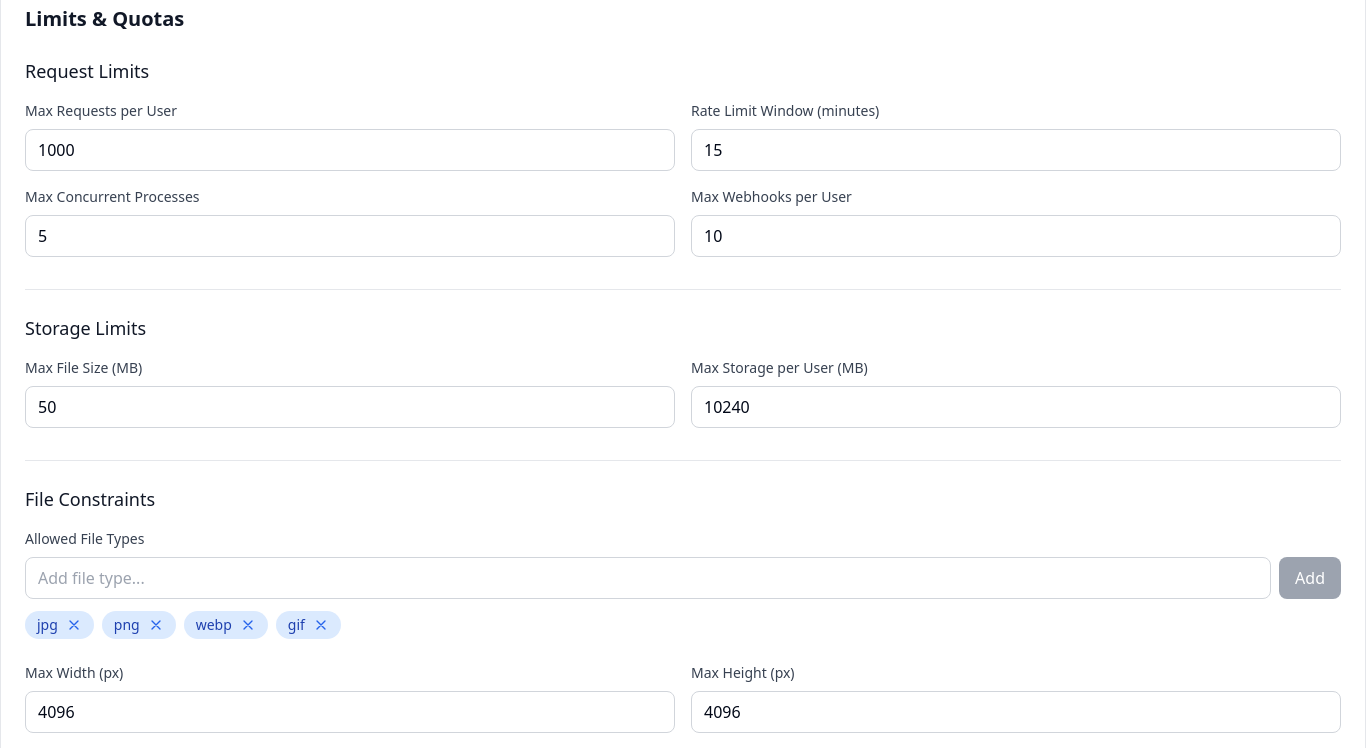
it: LimitsSettings › validates max file size range
Replace the text in the number field labelled "Max File Size (MB)" with "500" at (350, 407), box [25,386,675,428]
(page scrolled)
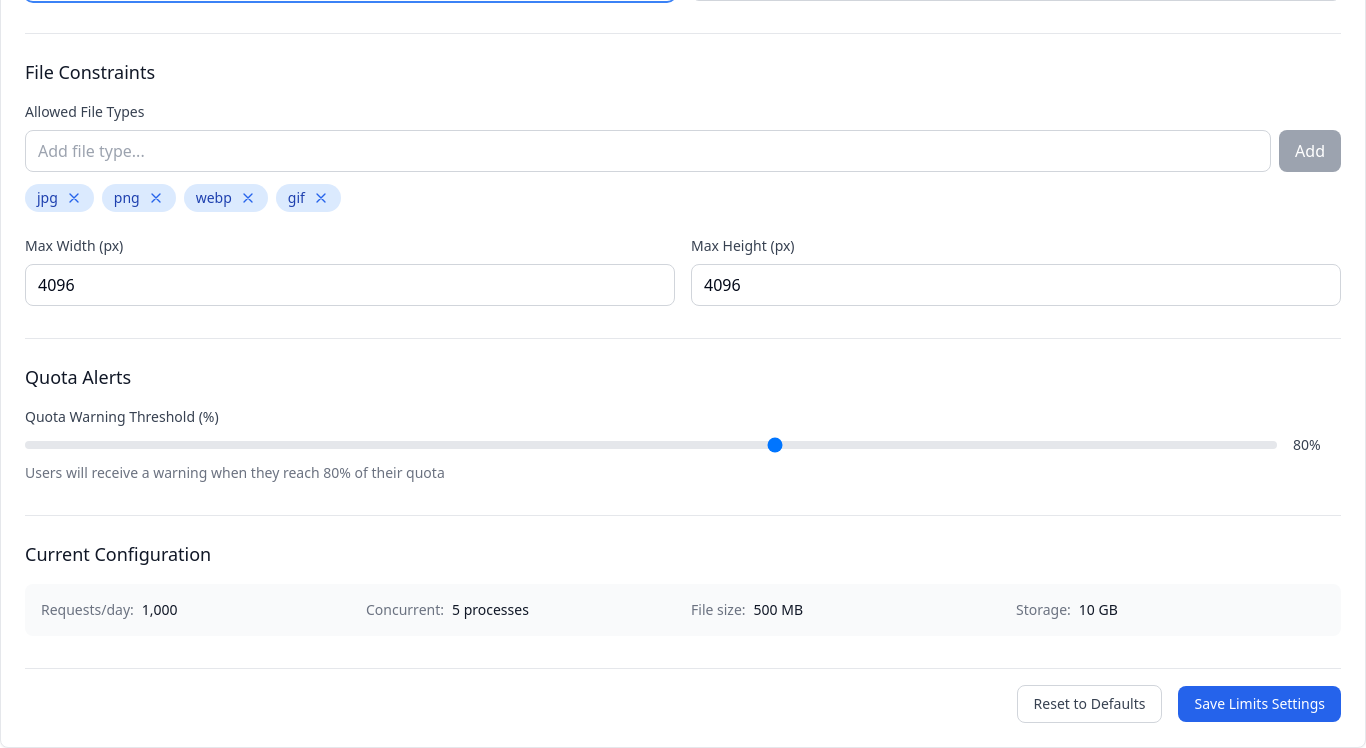
Click the button "Save Limits Settings" at (1260, 704), box [1178,686,1341,722]
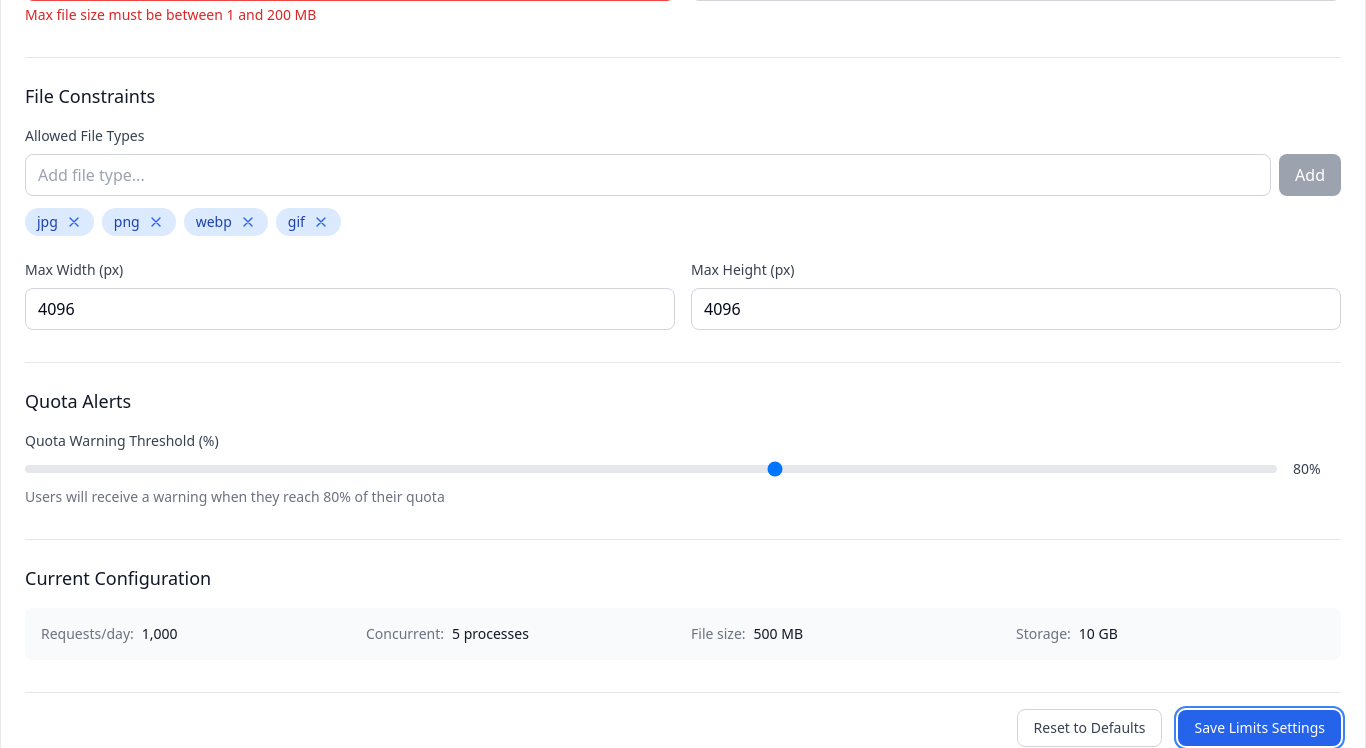
expect the text "Max file size must be between 1 and 200 MB" is shown: met, box [25,5,316,24]
